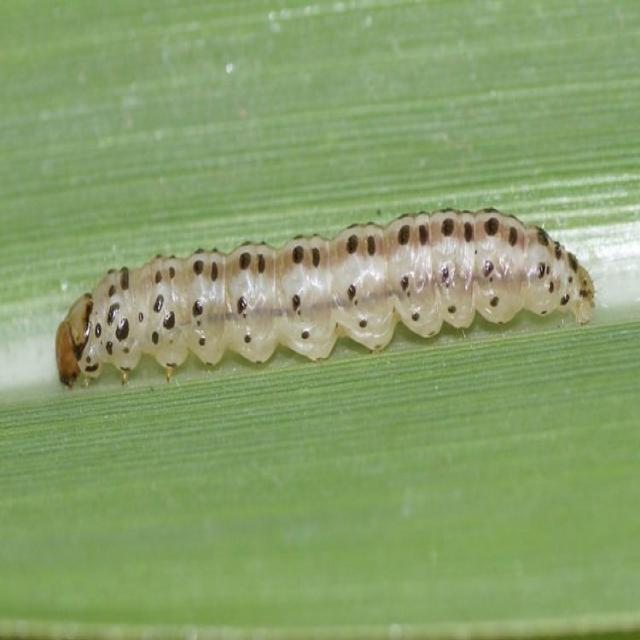cornborer-Larva-: (48, 186, 616, 419)
